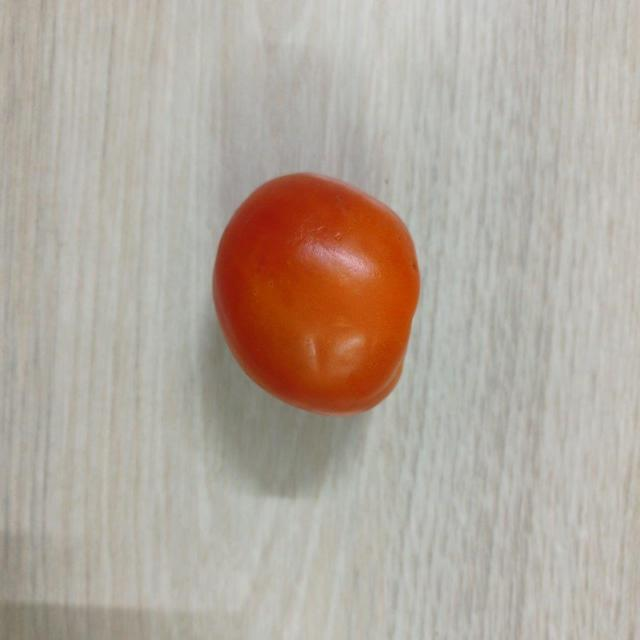Tomato: (208, 171, 424, 418)
